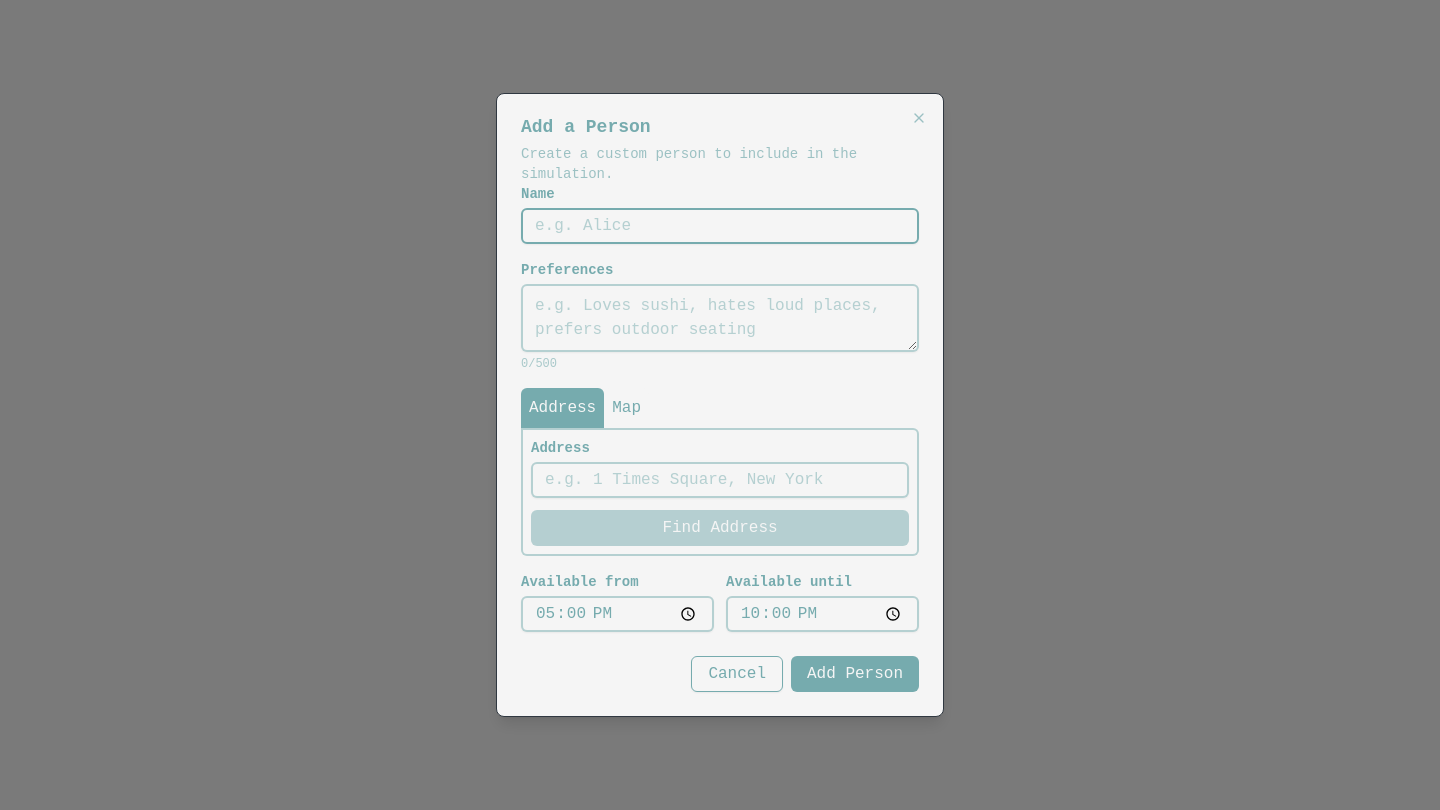
Scenario: AddPersonDialog › rejects an out-of-range longitude produced by dragging across world copies
This screenshot has width=1440, height=810.
Type "Alice" into the field labelled "Name" at coordinates (720, 226), box [521,208,919,244]
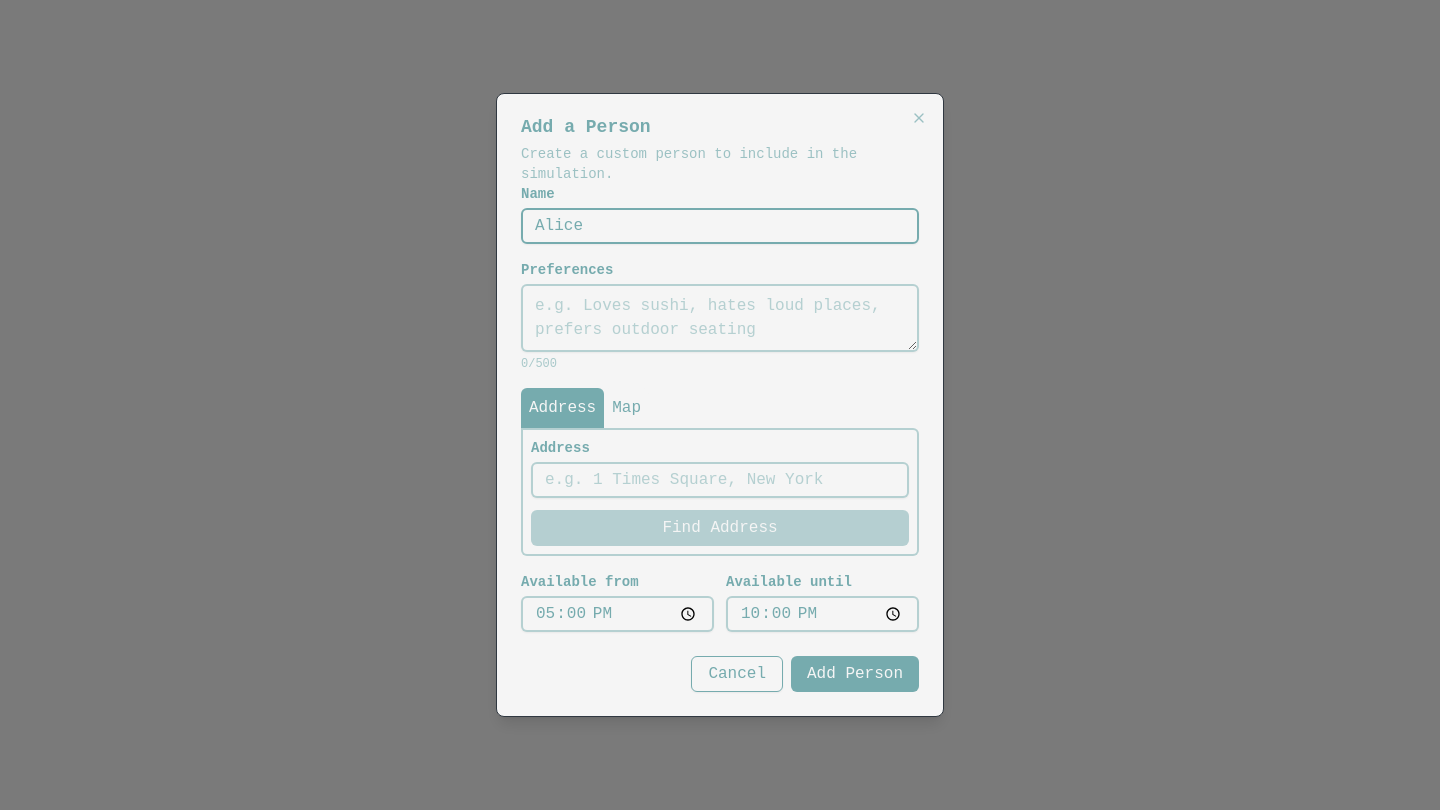
Type "Loves sushi" into the text box labelled "Preferences" at coordinates (720, 318), box [521,284,919,352]
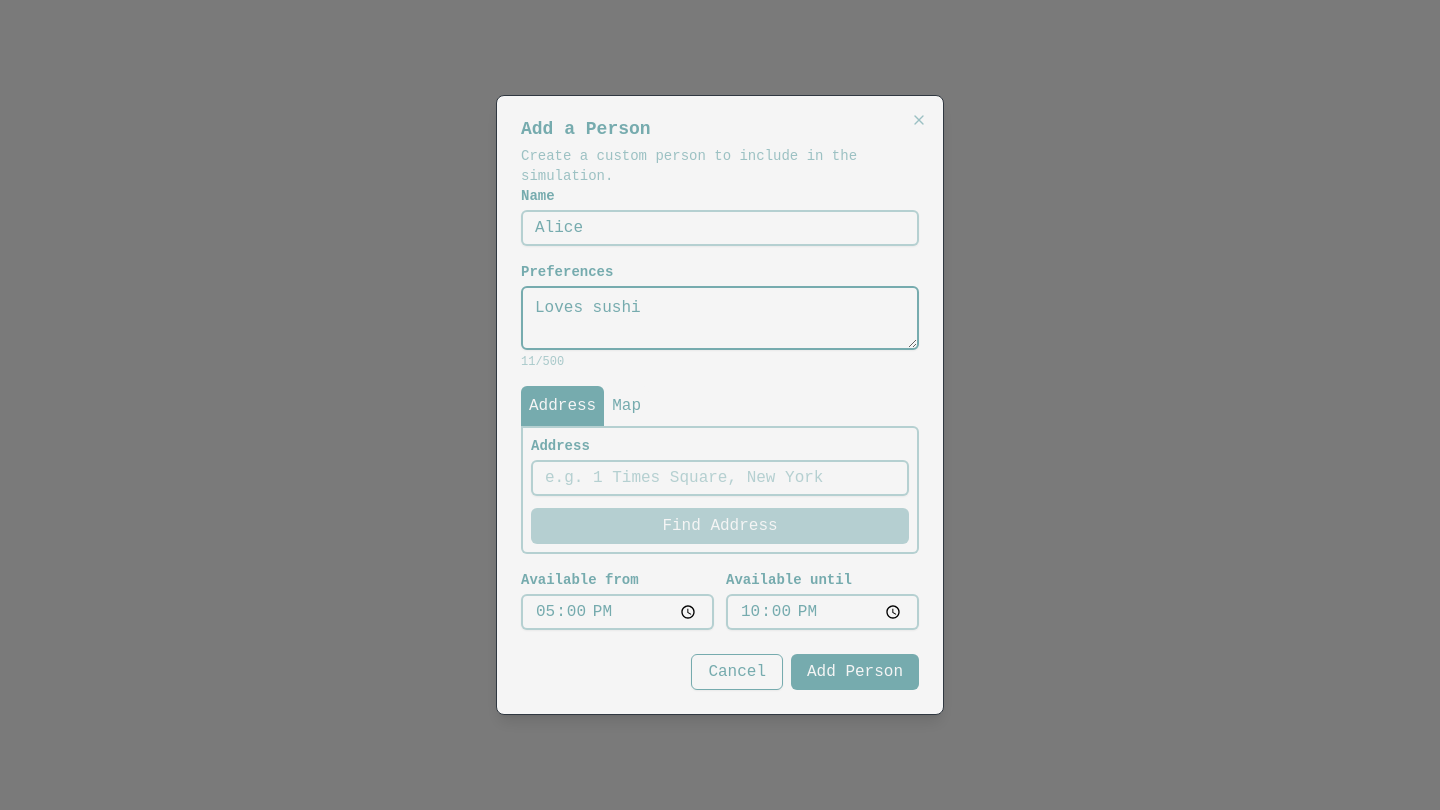
Type "Somewhere" into the field labelled "Address" at coordinates (720, 478), box [531,460,909,496]
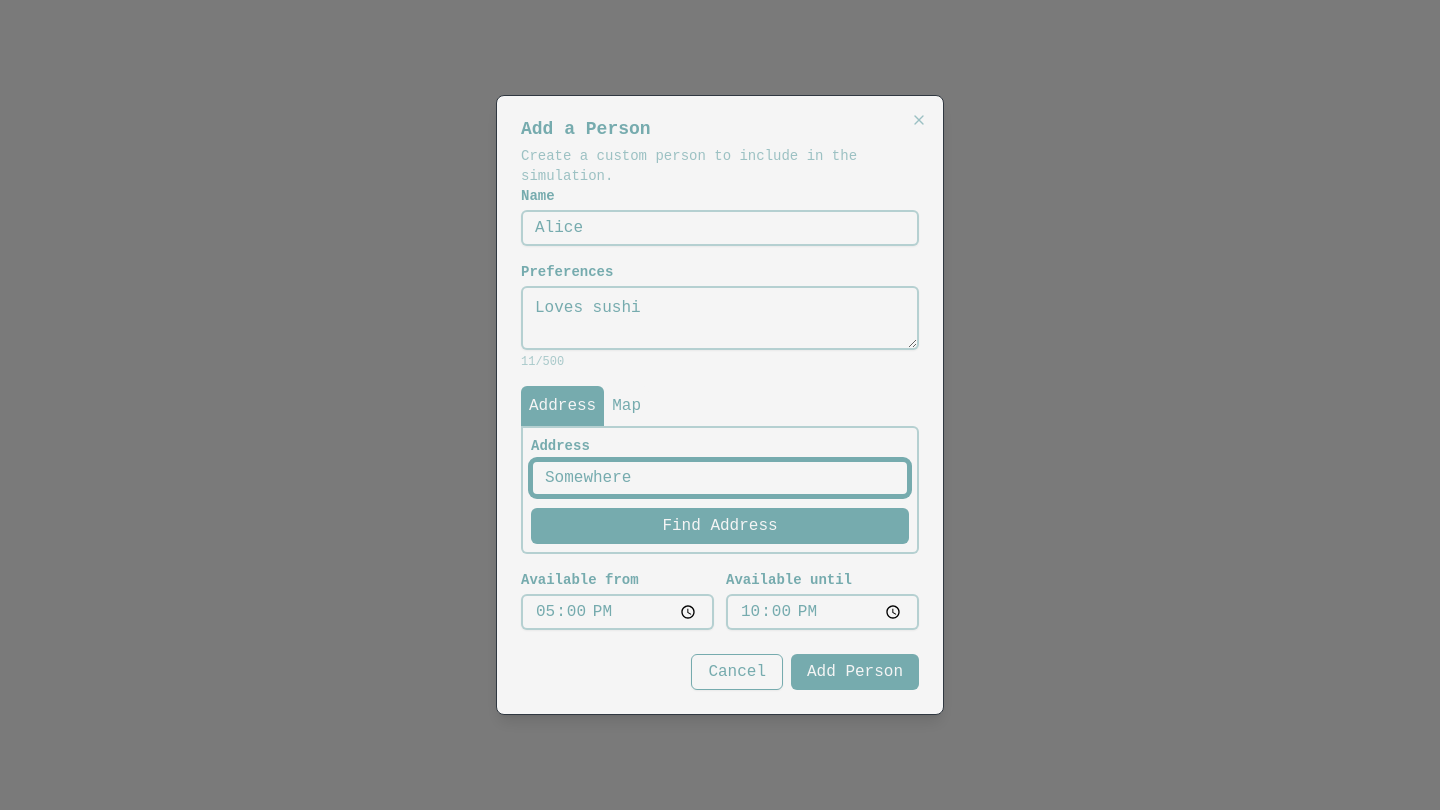
Click the button "Find Address" at coordinates (720, 526), box [531,508,909,544]
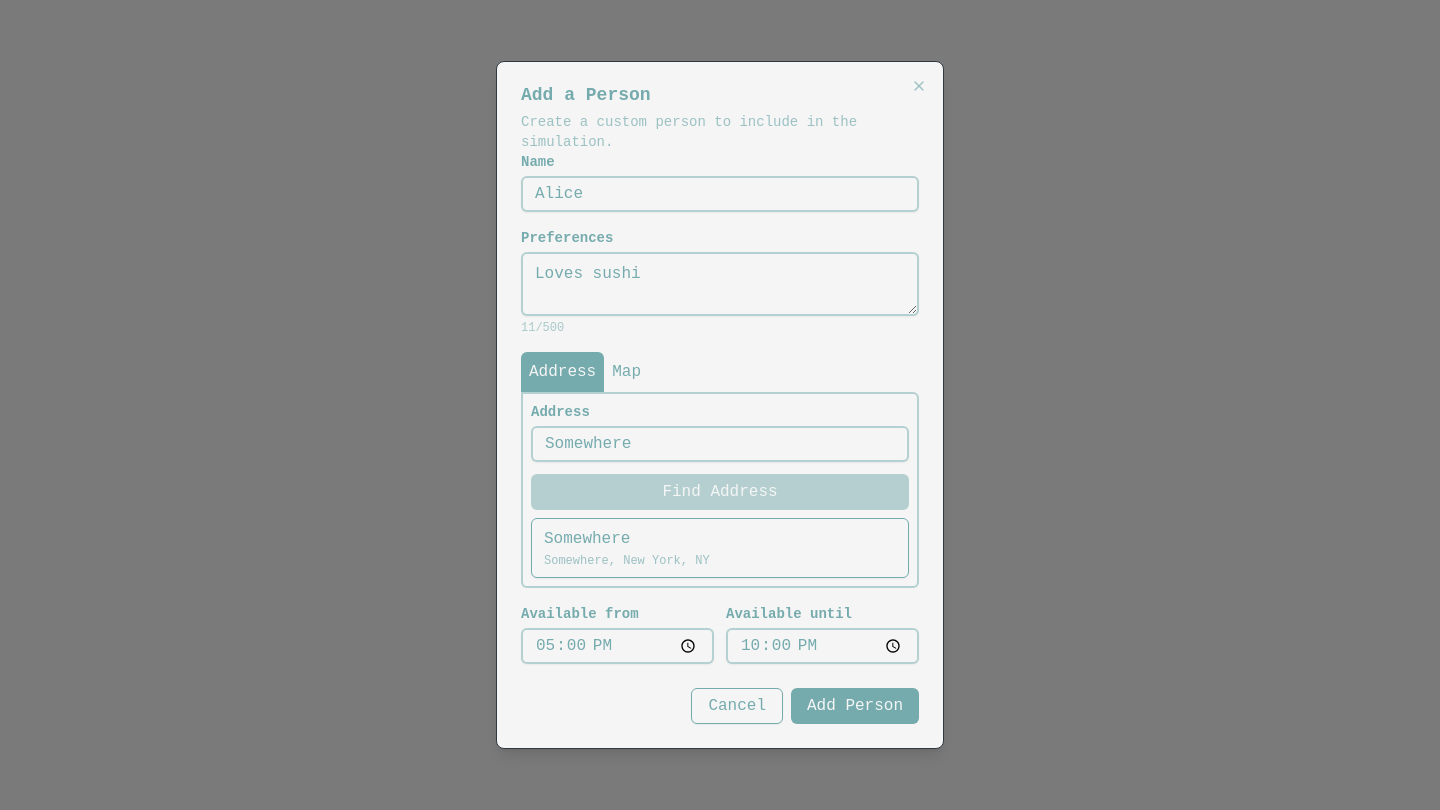
Click the button "Somewhere Somewhere, New York, NY" at coordinates (587, 539), box [531,518,909,578]
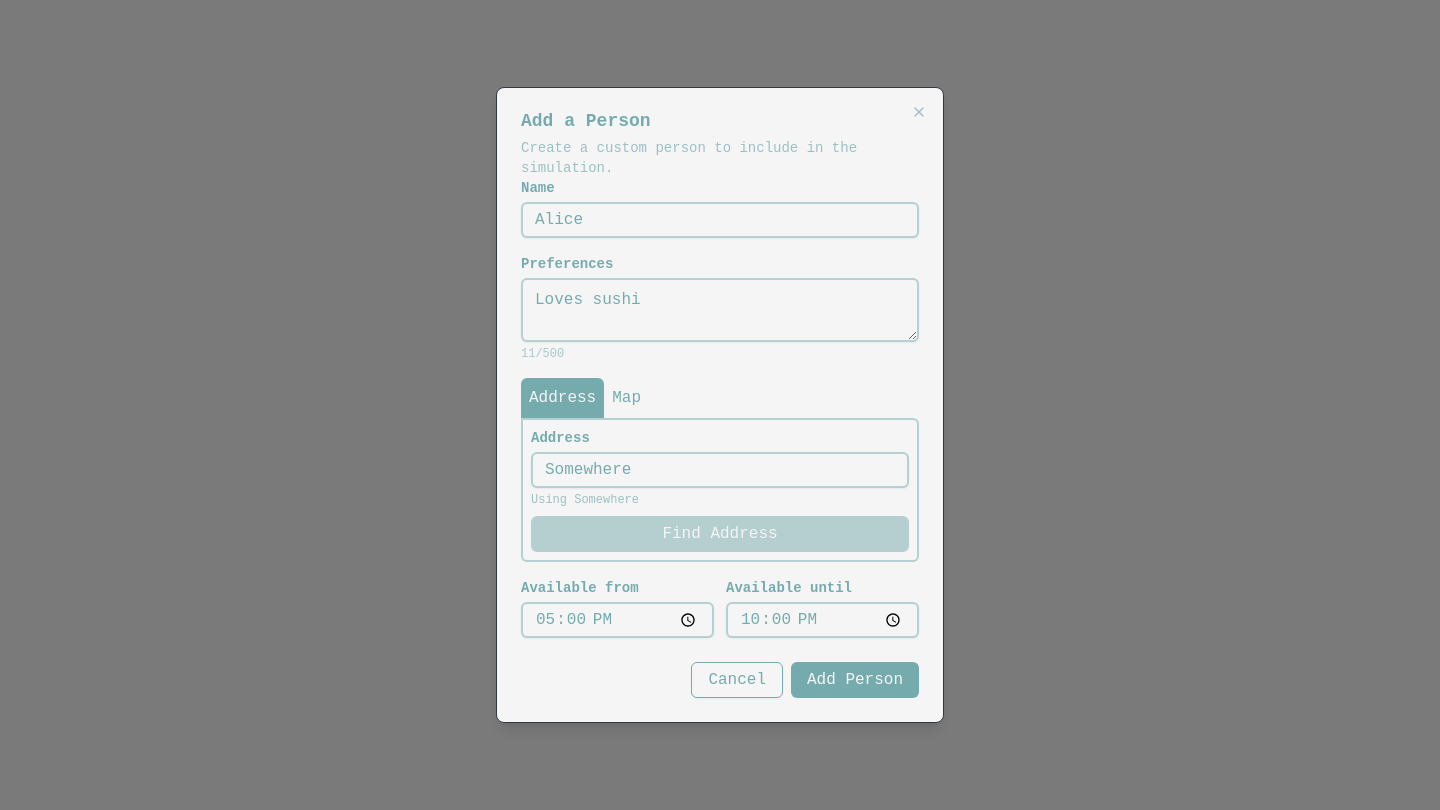
Result: the text "Using Somewhere" is shown at [531,493,639,507]
Click the button "Add Person" at coordinates (855, 680), box [791,662,919,698]
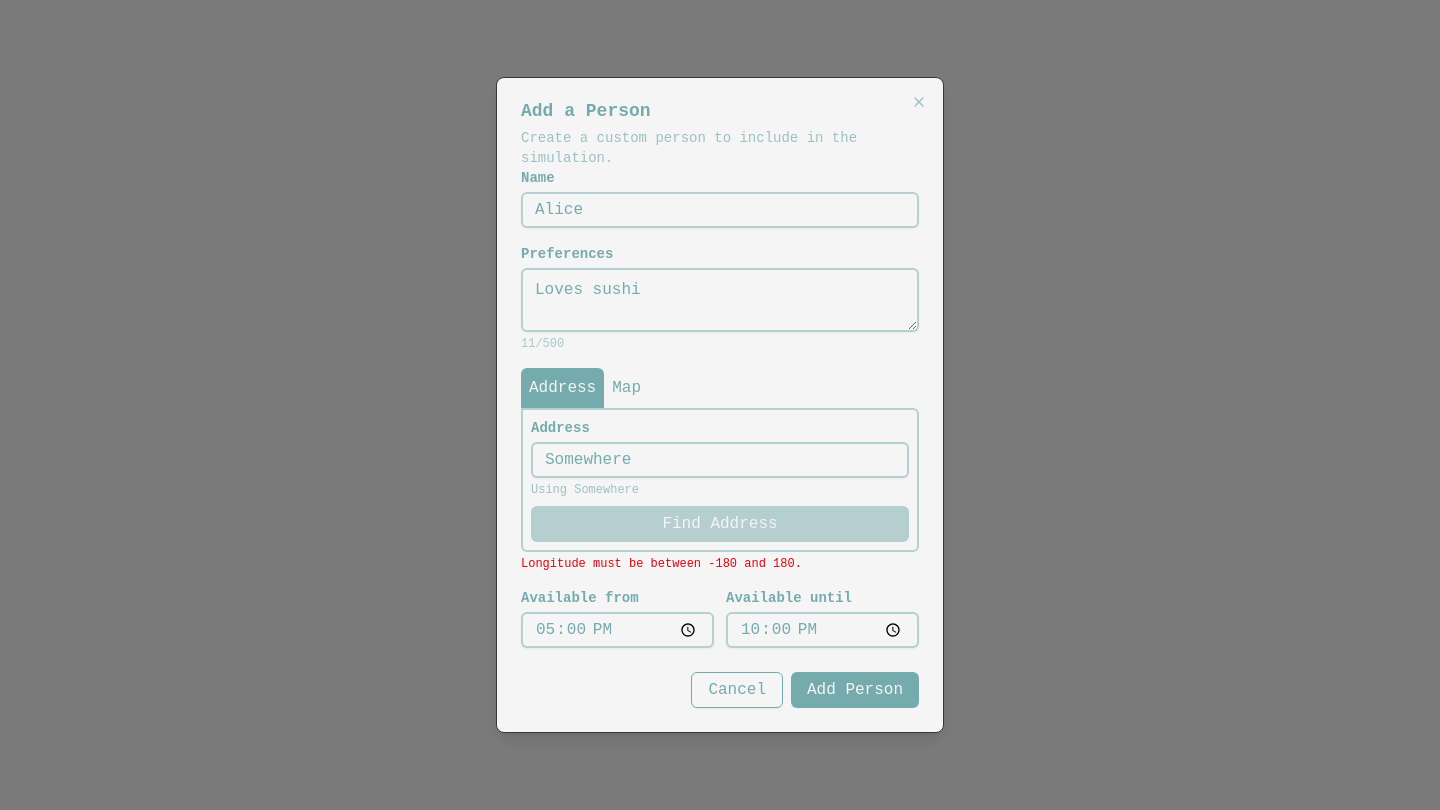
Result: the text "Longitude must be between -180 and 180." is shown at [521,557,802,571]
